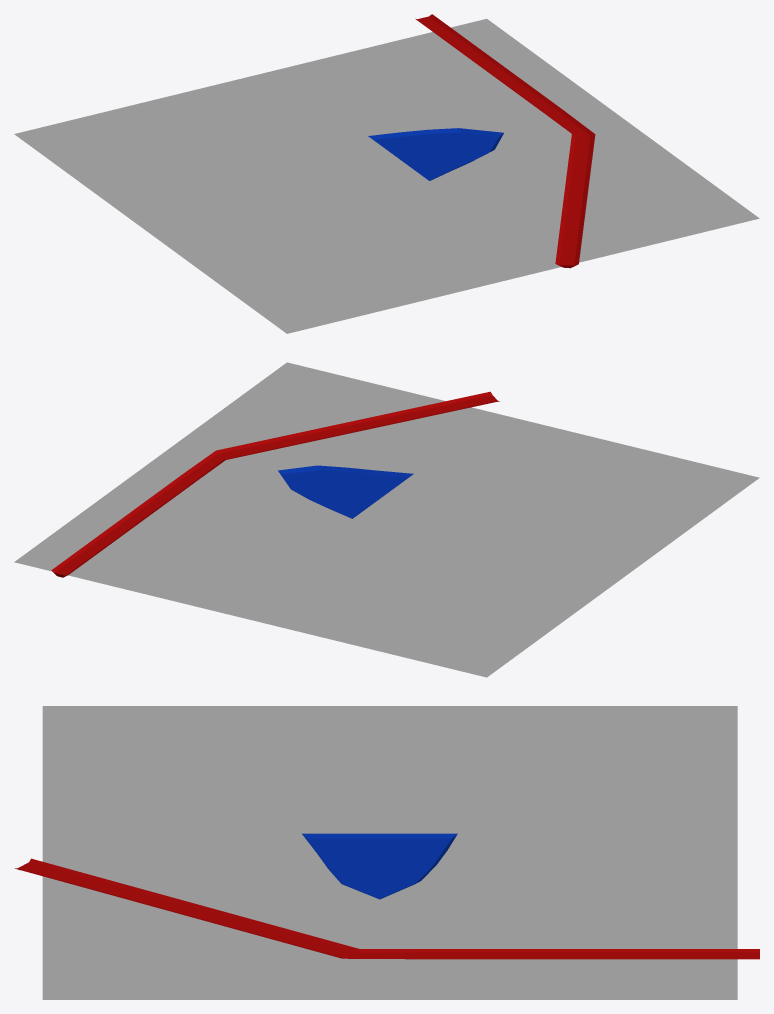
Rendered from ConTextureHigh.fbx.
3 views of the same model, one above another, from view 1: azimuth 30°, elevation 25°; view 2: azimuth 150°, elevation 25°; view 3: azimuth 270°, elevation 25° (orthographic). The views are drawn at different scales.
Visible parts, largest first — view 1: pPlane1, pPlane2, pPlane3; view 2: pPlane1, pPlane2, pPlane3; view 3: pPlane1, pPlane2, pPlane3.
Boxes of the visible parts, x1,y1,x2,y2 form: pPlane1: (14,18,759,333); pPlane2: (415,14,595,268); pPlane3: (368,128,503,180); pPlane1: (14,362,759,677); pPlane2: (51,391,499,577); pPlane3: (278,465,413,518); pPlane1: (42,706,737,999); pPlane2: (14,858,759,959); pPlane3: (302,833,457,899).
Size of the model in its own units: 10 by 0.3816 by 10.73.
